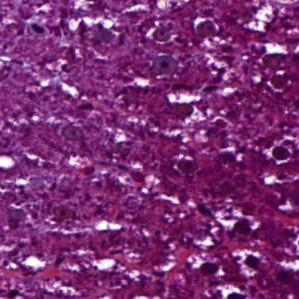inflammation: (188, 253, 227, 284), (186, 253, 225, 280), (236, 245, 269, 276), (262, 137, 293, 167), (146, 20, 177, 49), (190, 14, 223, 39), (236, 247, 264, 276)
